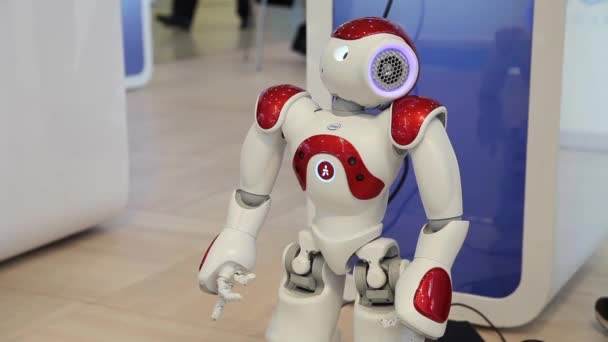nao: (176, 9, 476, 342)
